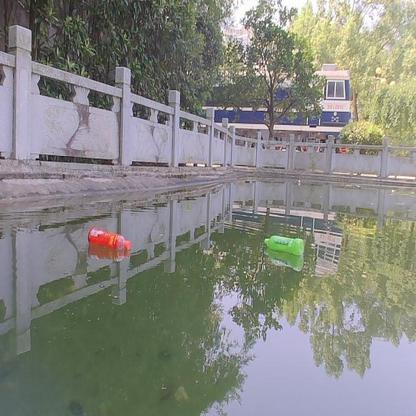plastic bottle: (87, 226, 132, 251), (263, 235, 305, 254)
